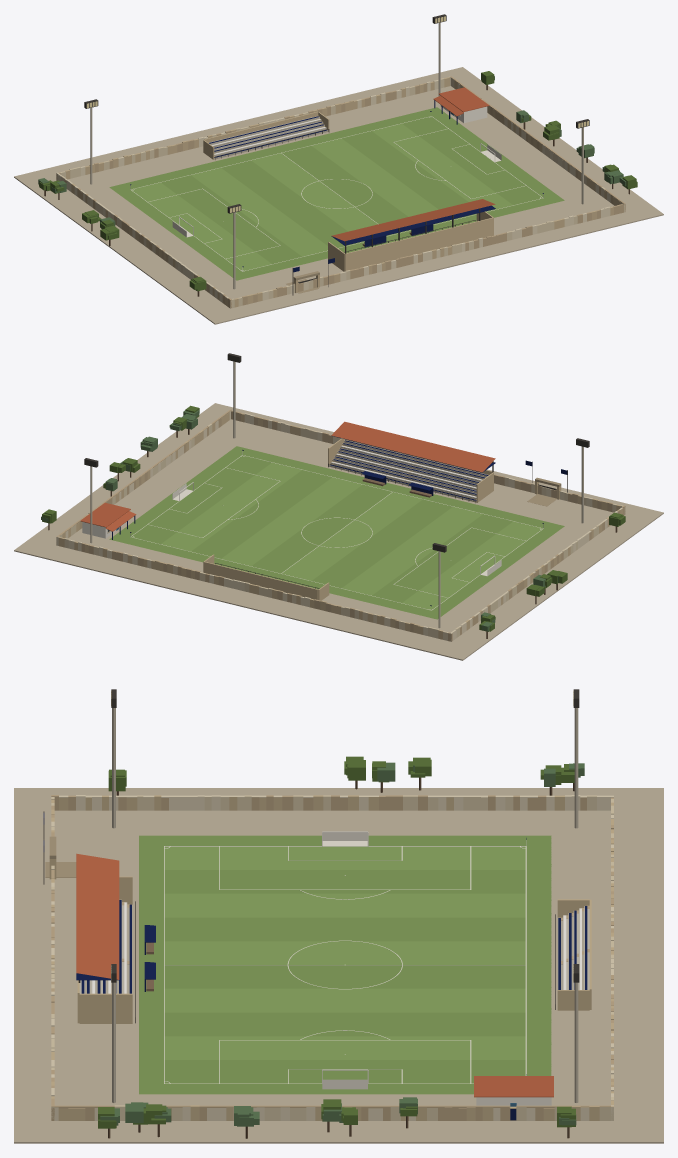
Rendered from dirlik-stadi.glb.
3 renders of one model, top to bottom at view 1: azimuth 30°, elevation 25°; view 2: azimuth 150°, elevation 25°; view 3: azimuth 270°, elevation 25°, orthographic. The views are drawn at different scales.
Visible parts, largest first — view 1: zemin, cim, cim2, tas2, tas3, tas4, kiremit1, tas1, lacivert, beton2, asma2, cizgi (+3 smaller); view 2: zemin, cim, cim2, tas2, kiremit1, tas3, beton2, tas4, beton, lacivert, tas1, cizgi (+4 smaller); view 3: zemin, cim, cim2, tas2, kiremit1, tas3, tas4, tas1, asma2, beton2, cizgi, zeytin (+6 smaller).
Boxes of the visible parts, box(x1,y1,x2,y2) form: zemin: box(14, 67, 663, 324); cim: box(109, 107, 564, 280); cim2: box(131, 123, 512, 271); tas2: box(65, 77, 621, 307); tas3: box(56, 76, 625, 308); tas4: box(56, 76, 625, 306); kiremit1: box(331, 87, 495, 241); tas1: box(60, 77, 605, 308); lacivert: box(130, 100, 543, 272); beton2: box(90, 22, 583, 289); asma2: box(39, 71, 637, 291); cizgi: box(130, 116, 543, 271); zemin: box(14, 403, 663, 660); cim: box(109, 446, 564, 619); cim2: box(161, 462, 542, 610); tas2: box(58, 412, 623, 639); kiremit1: box(80, 421, 495, 531); tas3: box(56, 409, 625, 641); beton2: box(90, 361, 583, 628); tas4: box(56, 410, 622, 641); beton: box(330, 440, 487, 499); lacivert: box(112, 435, 567, 606); tas1: box(56, 422, 625, 640); cizgi: box(130, 455, 543, 610); zemin: box(14, 788, 663, 1143); cim: box(139, 835, 551, 1094); cim2: box(164, 846, 525, 1059); tas2: box(49, 795, 613, 1120); kiremit1: box(76, 853, 553, 1097); tas3: box(51, 795, 613, 1120); tas4: box(51, 795, 613, 1120); tas1: box(51, 795, 613, 1120); asma2: box(98, 756, 575, 1128); beton2: box(85, 708, 584, 1102); cizgi: box(164, 831, 526, 1083); zeytin: box(100, 762, 584, 1126).
Bounding box in the file's own units: 136 × 23.9 × 104.
